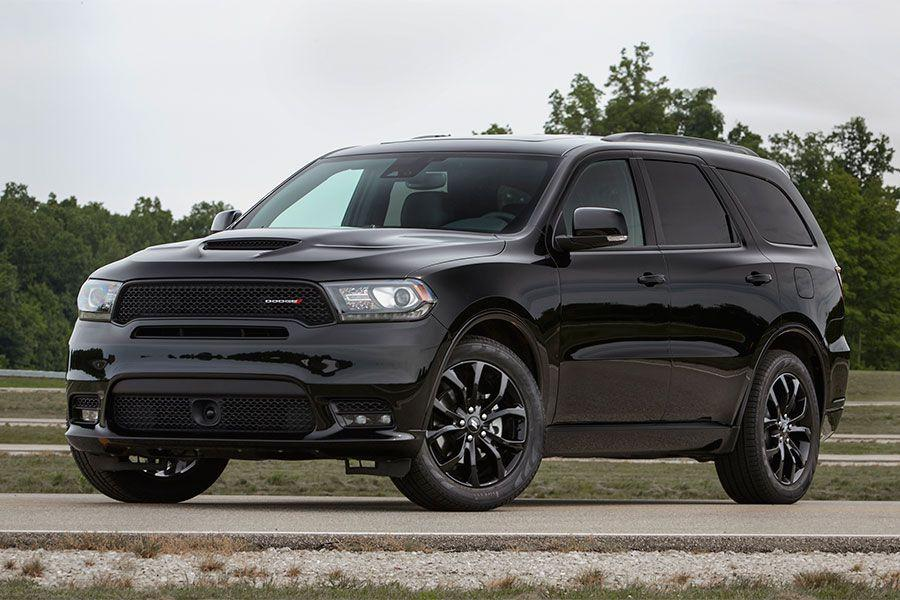car: (51, 125, 856, 524)
